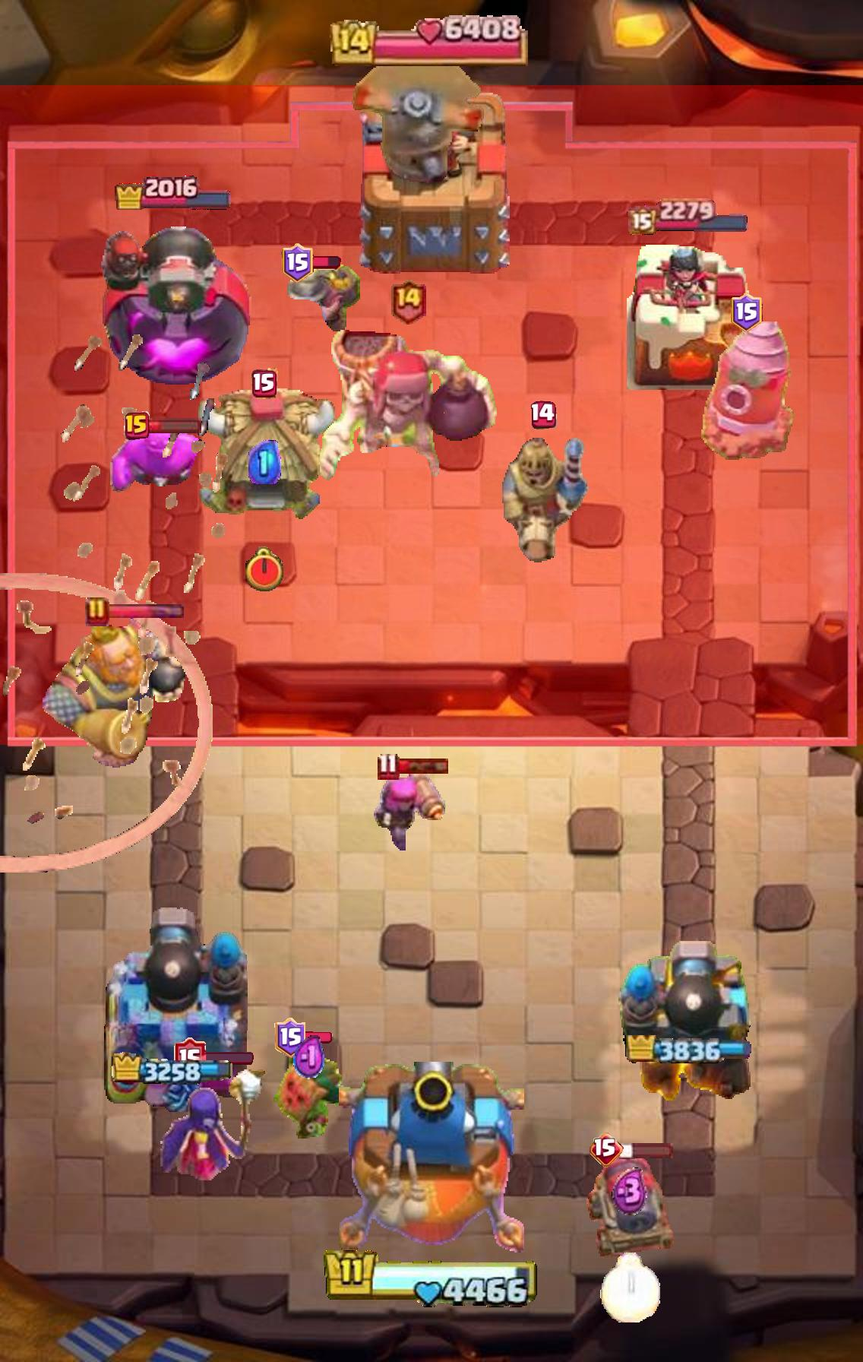elixir: (612, 1167, 648, 1216), (294, 1033, 326, 1083), (248, 440, 281, 484)
